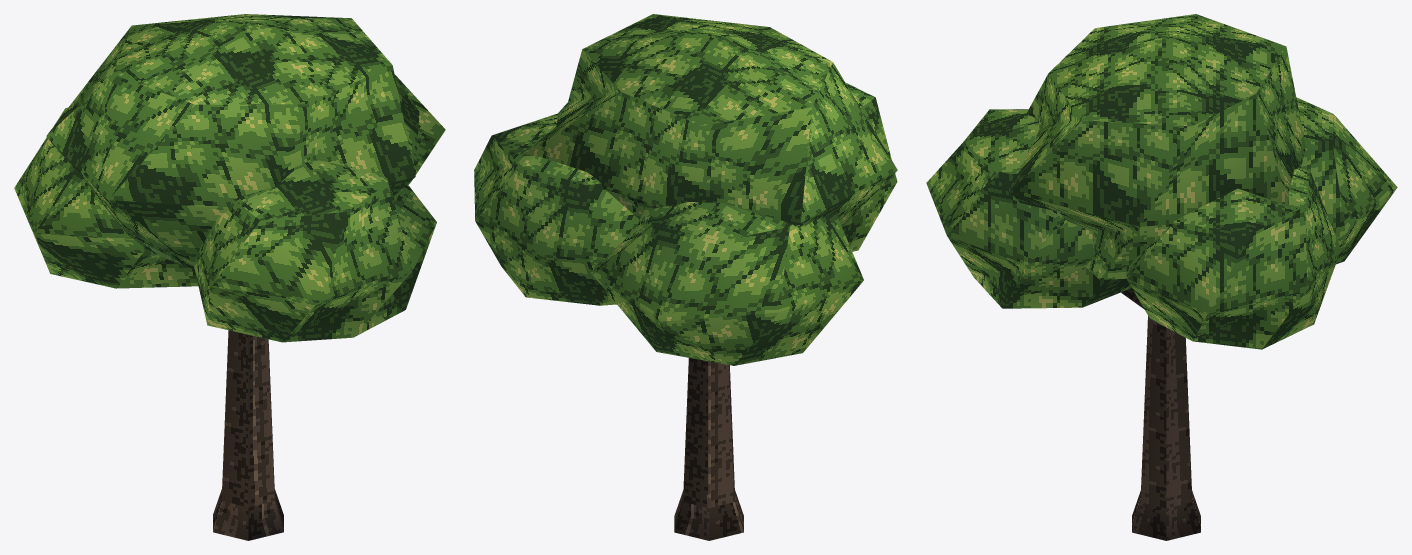
File: mnat.oak.glb
3 renders of one model, left to right at view 1: azimuth 30°, elevation 25°; view 2: azimuth 150°, elevation 25°; view 3: azimuth 270°, elevation 25°, orthographic. The views are drawn at different scales.
Parts seen in each view (by area): view 1: kit_crown, kit_trunk; view 2: kit_crown, kit_trunk; view 3: kit_crown, kit_trunk.
Boxes of the visible parts, x1,y1,x2,y2 form: kit_crown: (14, 14, 445, 342); kit_trunk: (213, 330, 283, 540); kit_crown: (474, 14, 897, 365); kit_trunk: (674, 358, 743, 540); kit_crown: (926, 14, 1397, 349); kit_trunk: (1121, 288, 1200, 540).
Bounding box in the file's own units: 5.85 × 6.93 × 6.08.
Materials: 2 (2 with a texture image).
